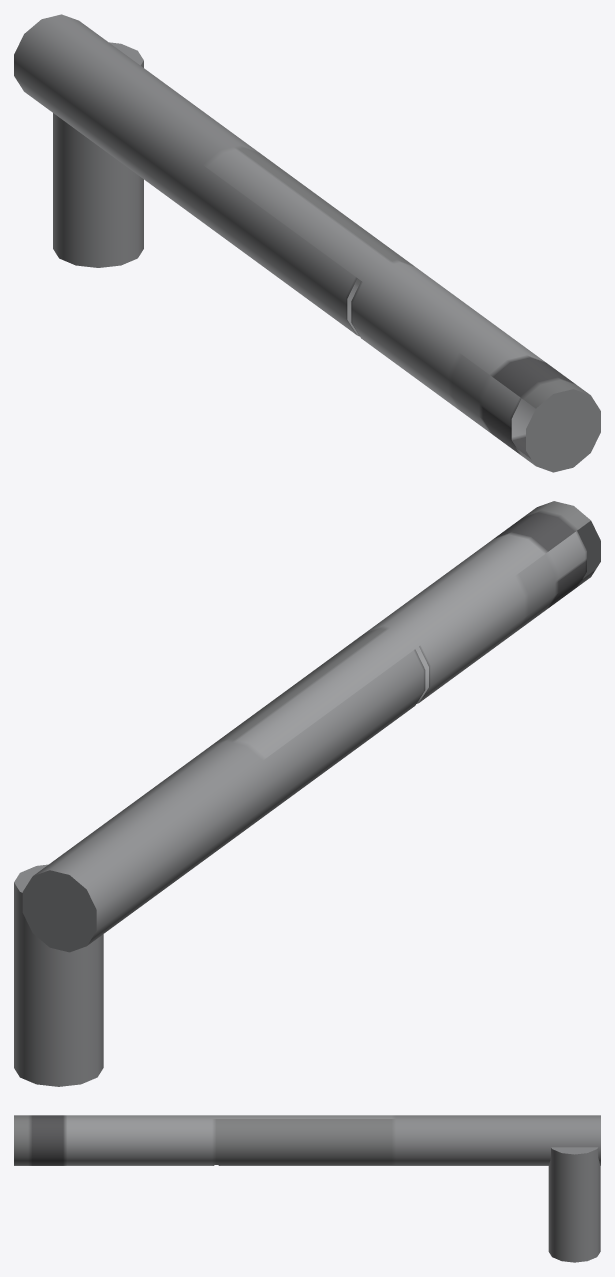
3 views of the same model, one above another, from view 1: azimuth 30°, elevation 25°; view 2: azimuth 150°, elevation 25°; view 3: azimuth 270°, elevation 25° (orthographic). The views are drawn at different scales.
Size of the model in its own units: 0.2787 by 0.5836 by 2.45.
